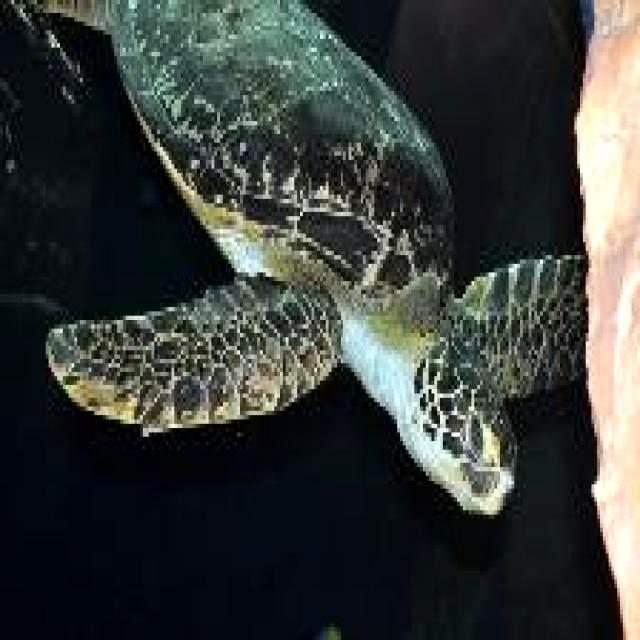Sea turtle: (0, 0, 583, 519)
